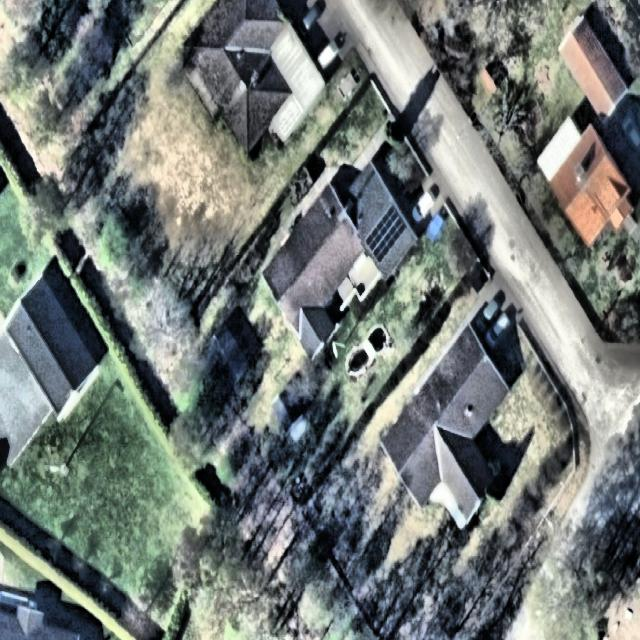roof_pv: (365, 204, 408, 264)
